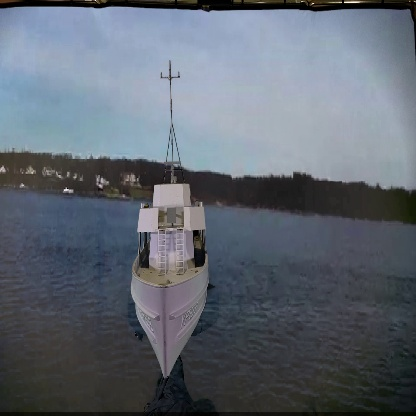YP689: (129, 58, 211, 377)
